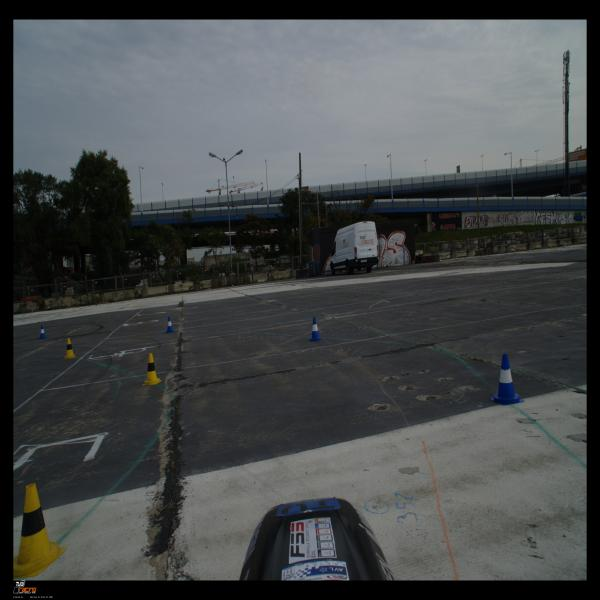blue_cone: (490, 354, 524, 405), (308, 317, 323, 342), (166, 316, 174, 333), (38, 326, 47, 340)
yellow_cone: (13, 483, 67, 578), (142, 353, 162, 385), (63, 338, 77, 359)
